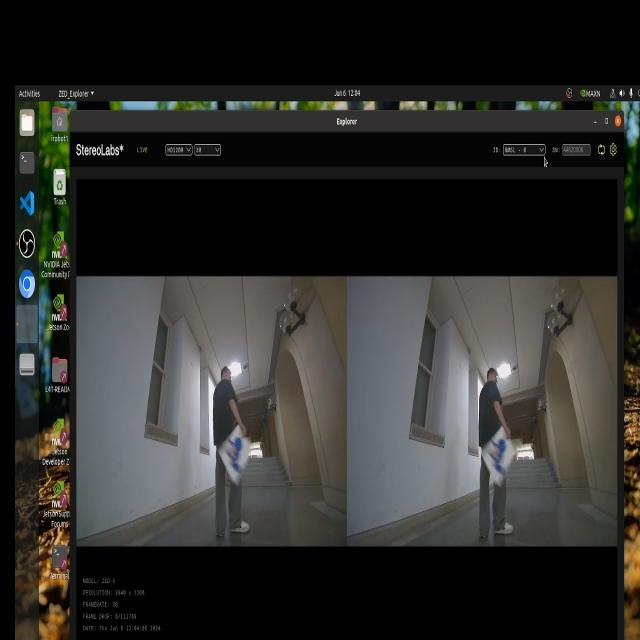blue: (498, 434, 508, 478), (221, 449, 247, 465)
